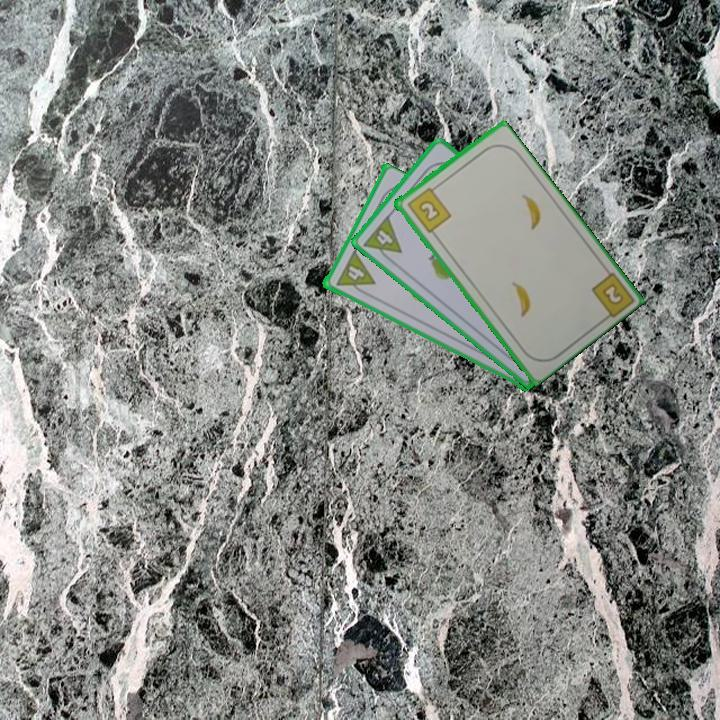2b: (403, 182, 454, 236), (598, 280, 626, 308)
4p: (360, 212, 405, 266), (341, 249, 377, 285)
